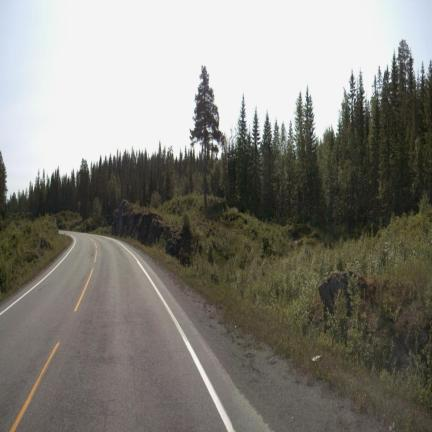Road: (0, 233, 267, 431)
